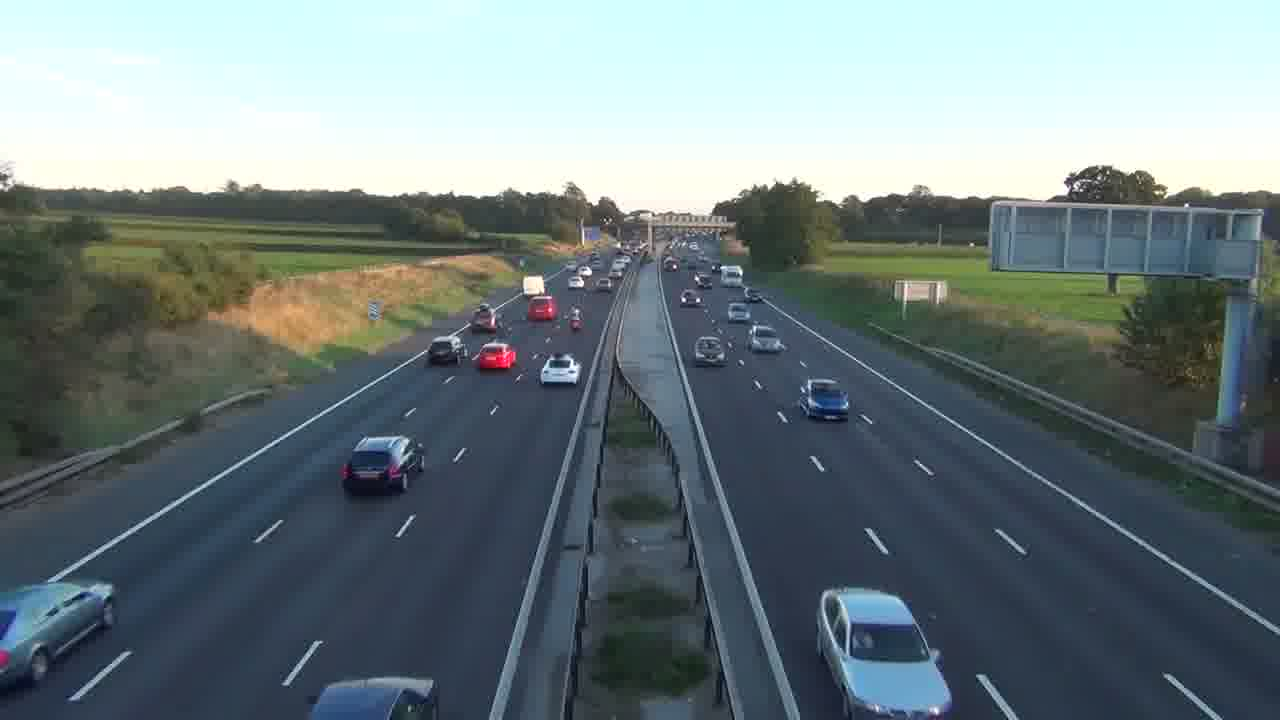car: (815, 585, 953, 718), (0, 577, 116, 693), (309, 675, 438, 719), (340, 434, 424, 496), (798, 377, 850, 421), (540, 353, 581, 387), (747, 325, 787, 355), (474, 343, 517, 370), (693, 335, 726, 367), (428, 337, 461, 366)
